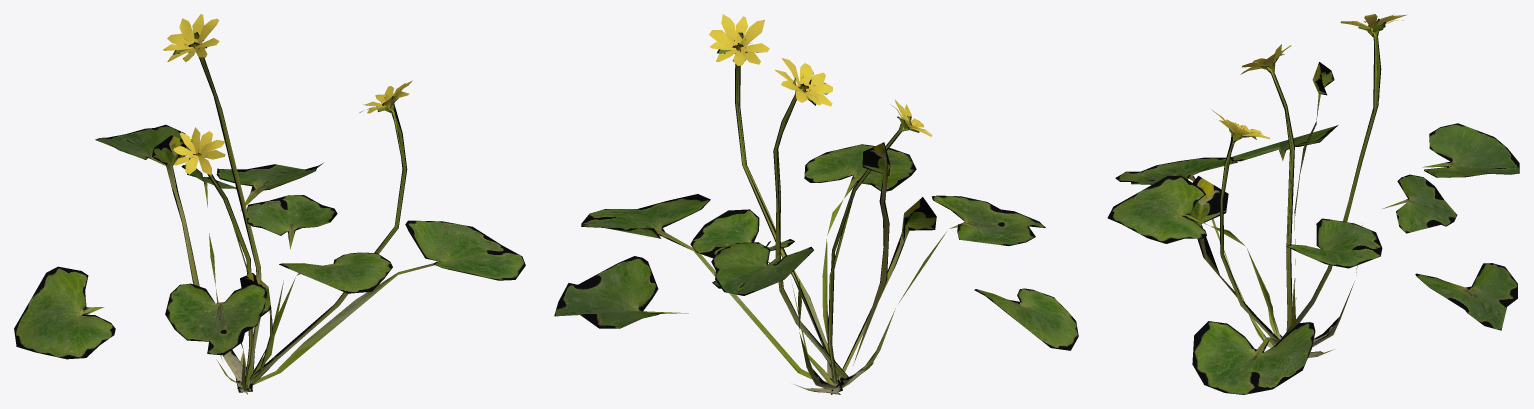
The model's file is celandine.glb.
3 renders of one model, left to right at view 1: azimuth 30°, elevation 25°; view 2: azimuth 150°, elevation 25°; view 3: azimuth 270°, elevation 25°, orthographic. The views are drawn at different scales.
Visible parts, largest first — view 1: celandine_01_c_LOD0; view 2: celandine_01_c_LOD0; view 3: celandine_01_c_LOD0.
Part boxes in pixels (x1=…): celandine_01_c_LOD0: x1=14, y1=14, x2=525, y2=394; celandine_01_c_LOD0: x1=554, y1=14, x2=1078, y2=394; celandine_01_c_LOD0: x1=1107, y1=14, x2=1519, y2=394.
Size of the model in its own units: 0.414 by 0.284 by 0.3.
Materials: 1 (1 with a texture image).
